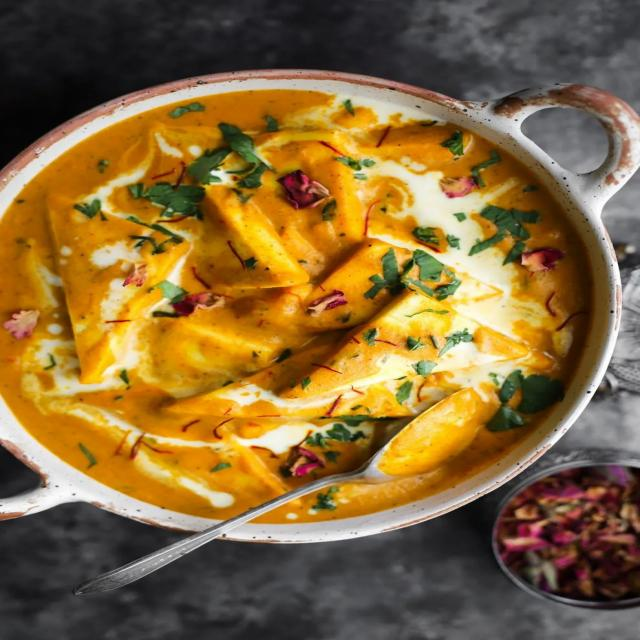ShahiPaneer: (0, 88, 589, 533)
